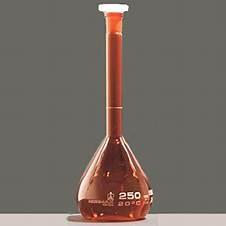Volumetric flask: (56, 12, 159, 221)
